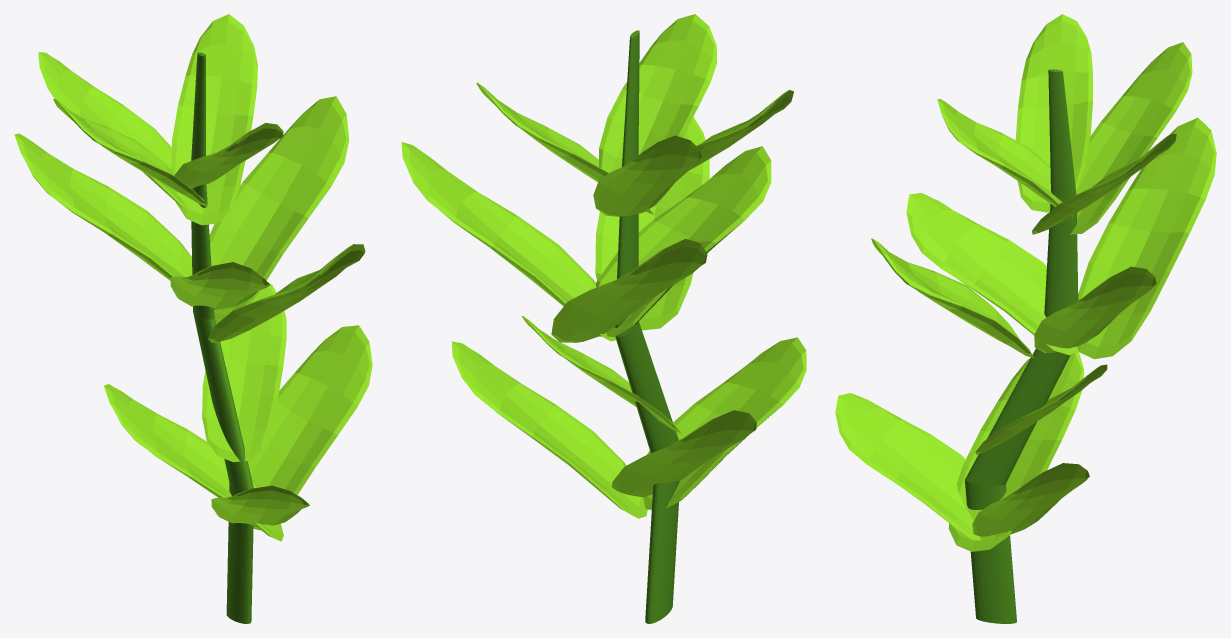
The model's file is puera javanica3 .fbx.
3 views of the same model, side by side, from view 1: azimuth 30°, elevation 25°; view 2: azimuth 150°, elevation 25°; view 3: azimuth 270°, elevation 25° (orthographic). The views are drawn at different scales.
Parts seen in each view (by area): view 1: Cube.010; view 2: Cube.010; view 3: Cube.010.
Boxes of the visible parts, left/top/right/bottom form: Cube.010: left=14, top=14, right=372, bottom=623; Cube.010: left=401, top=14, right=806, bottom=623; Cube.010: left=835, top=14, right=1216, bottom=623.
Bounding box in the file's own units: 45.01 × 74.74 × 47.14.
